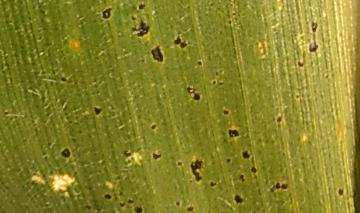tarspot: (130, 19, 150, 38), (189, 158, 204, 182), (184, 84, 202, 102), (150, 45, 165, 64), (101, 6, 112, 21), (226, 127, 239, 139), (309, 19, 319, 34), (307, 41, 319, 53), (60, 148, 71, 159), (240, 149, 251, 160), (92, 106, 103, 116), (233, 194, 243, 205), (178, 39, 189, 49), (122, 148, 133, 158), (150, 151, 162, 160), (172, 34, 181, 45), (336, 187, 345, 197), (133, 204, 143, 213), (249, 165, 258, 174), (126, 197, 136, 205), (208, 180, 217, 188), (280, 182, 288, 191), (238, 173, 246, 182), (221, 108, 230, 116), (185, 205, 194, 213), (150, 123, 158, 132), (275, 116, 284, 124), (196, 59, 204, 68), (103, 192, 112, 200), (83, 203, 92, 211), (129, 14, 137, 22), (60, 75, 68, 83), (118, 200, 126, 208), (274, 181, 281, 190), (174, 199, 181, 208), (138, 3, 145, 11), (176, 160, 183, 168), (217, 80, 225, 87), (296, 61, 305, 67), (210, 79, 217, 86), (227, 19, 233, 26), (225, 157, 231, 163)
